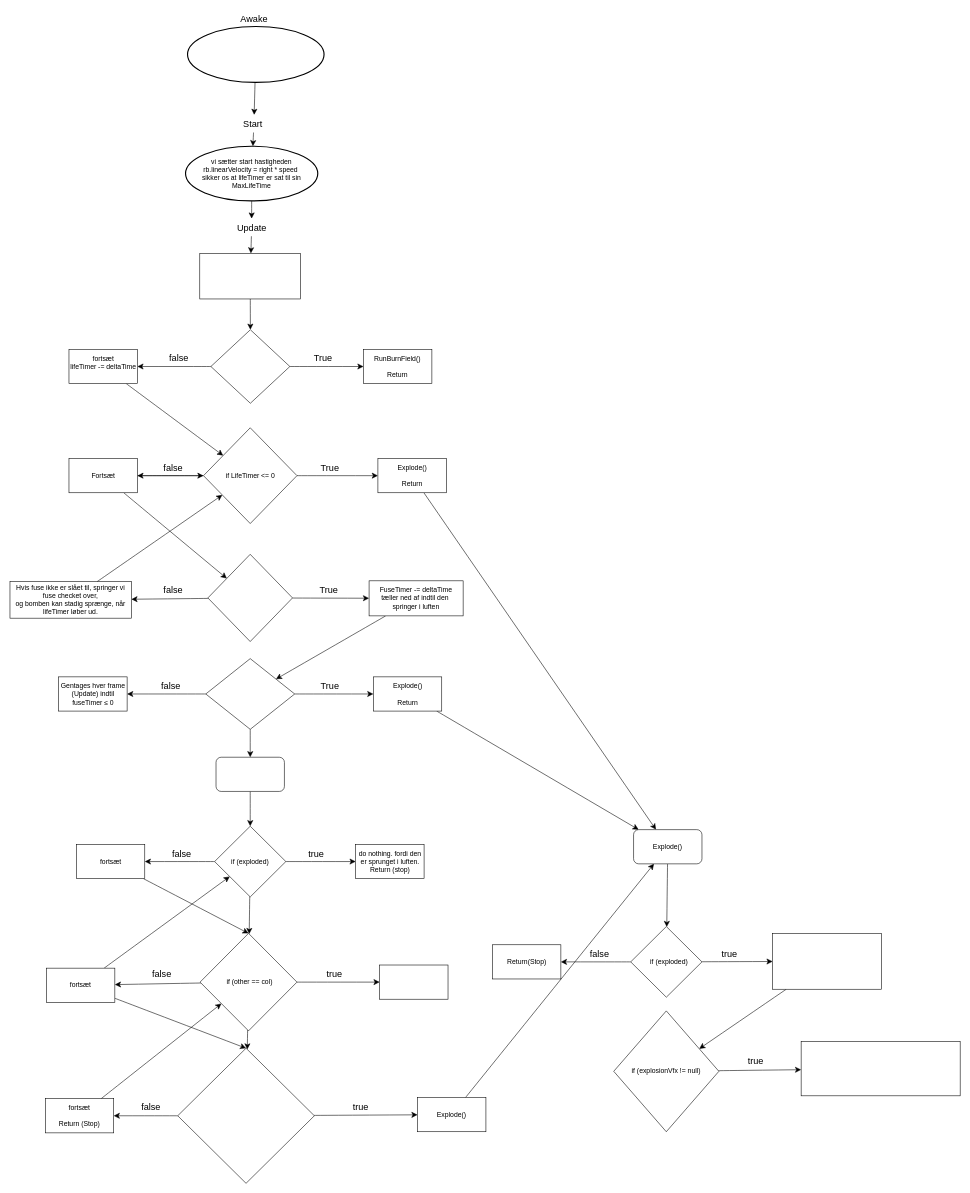
This 970x1193 diagram has some shape labels left out. Here are the shapes that lost their labels. From the top down, the centre of each, then its label:
point 255,54: Henter komponenter Rigbody2D og Collider2D
point 250,276: Udate()
point 250,366: if exploded = true
point 250,598: if( fuseTime > 0) vis fuse er støre end 0 er den aktiveret
point 250,693: if (fuseTimer <= 0f)
point 249,774: OnTriggerEnter2D
point 413,981: ignore other layers Return (Stop)
point 827,961: exploded = true; rb.linearVelocity= Vector2.zero; rb.simulated = false;
point 880,1068: Spawn explosion VFX at position, then destroy it immediately (instant effect)
point 245,1115: Er objektets layer i impactLayers? og Rammer vi et layer fra impactLayers?
